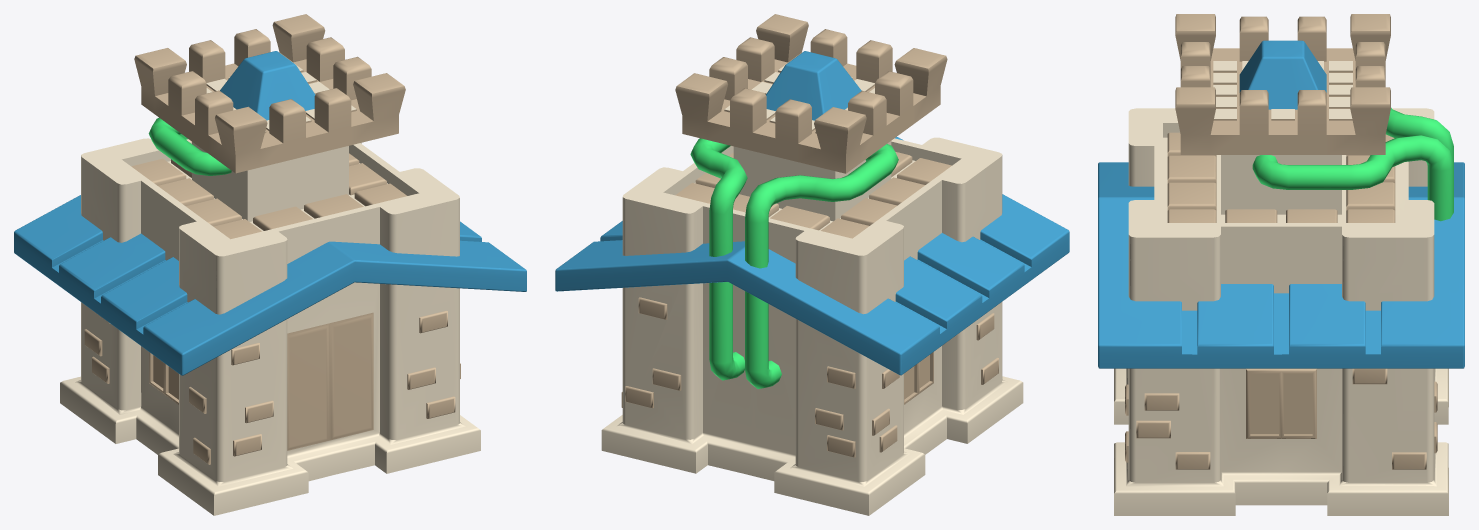
File: central-bank 1.fbx
3 views of the same model, side by side, from view 1: azimuth 30°, elevation 25°; view 2: azimuth 150°, elevation 25°; view 3: azimuth 270°, elevation 25° (orthographic). The views are drawn at different scales.
Parts seen in each view (by area): view 1: the-central-bank; view 2: the-central-bank; view 3: the-central-bank.
Boxes of the visible parts, left/top/right/bottom form: the-central-bank: left=14, top=14, right=526, bottom=515; the-central-bank: left=555, top=14, right=1069, bottom=515; the-central-bank: left=1098, top=14, right=1464, bottom=515.
Bounding box in the file's own units: 4.23 × 4.27 × 3.58.
Materials: 1 (1 with a texture image).
